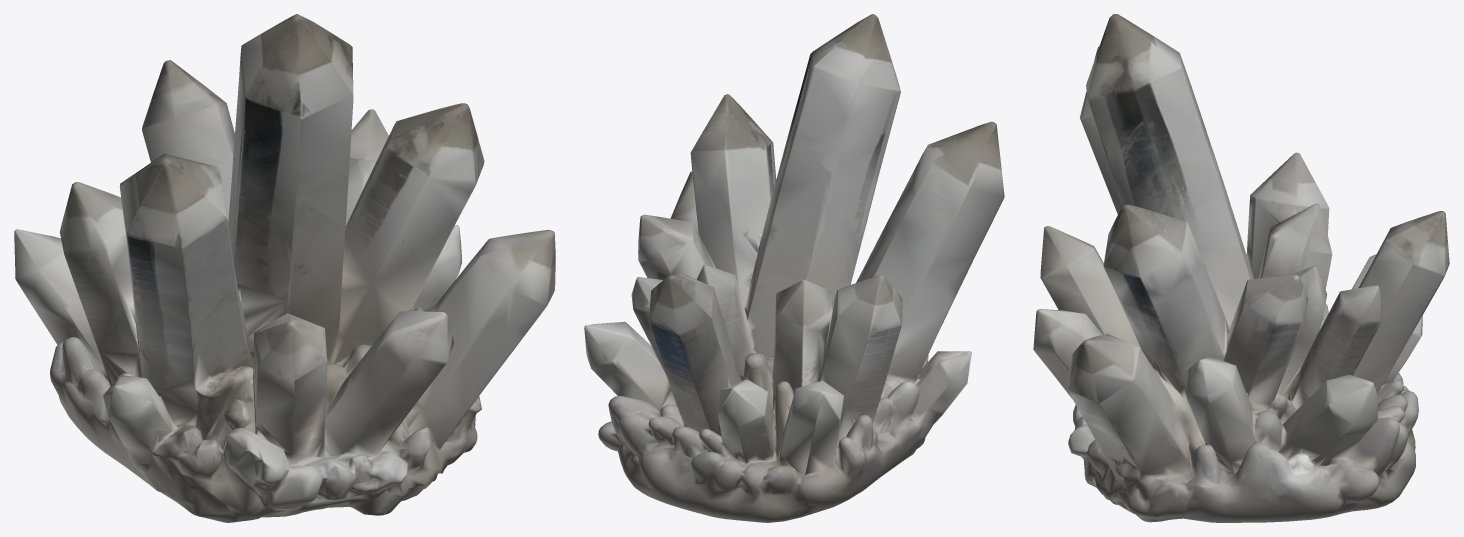
File: quartz.glb
3 views of the same model, side by side, from view 1: azimuth 30°, elevation 25°; view 2: azimuth 150°, elevation 25°; view 3: azimuth 270°, elevation 25° (orthographic). The views are drawn at different scales.
Visible parts, largest first — view 1: node_0; view 2: node_0; view 3: node_0.
Part boxes in pixels (box(x1,y1,x2,y2)): node_0: box(14, 14, 555, 522); node_0: box(584, 14, 1004, 522); node_0: box(1033, 14, 1449, 522).
Size of the model in its own units: 0.8492 by 1 by 0.8556.
Materials: 1 (1 with a texture image).
